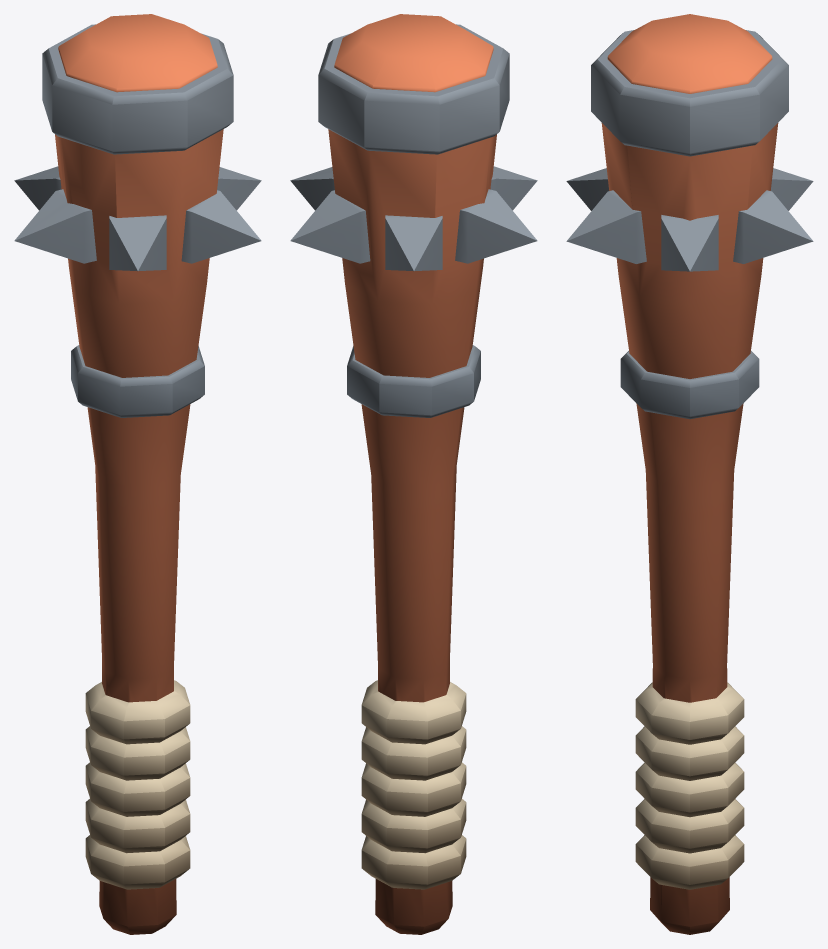
File: club_steel.glb
3 views of the same model, side by side, from view 1: azimuth 30°, elevation 25°; view 2: azimuth 150°, elevation 25°; view 3: azimuth 270°, elevation 25° (orthographic).
Visible parts, largest first — view 1: Item; view 2: Item; view 3: Item.
Boxes of the visible parts, box(x1,y1,x2,y2) form: Item: box(14, 14, 261, 934); Item: box(290, 14, 537, 934); Item: box(566, 14, 813, 934).
Bounding box in the file's own units: 0.4 × 1.37 × 0.3464.
Materials: 2 (2 with a texture image).
